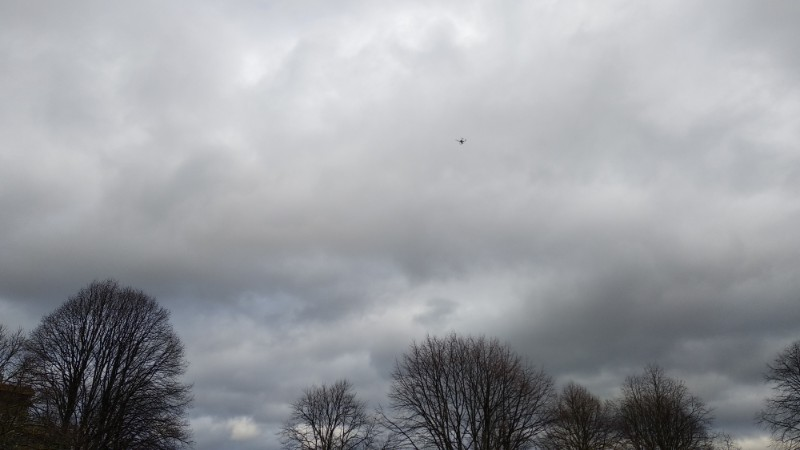drone: (457, 138, 468, 144)
